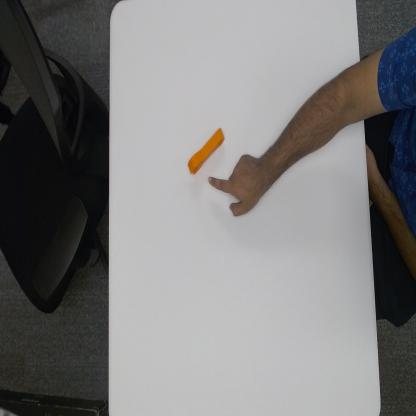Arm: (267, 46, 368, 184)
Hand: (207, 150, 267, 219)
Screwdriver: (186, 122, 226, 176)
